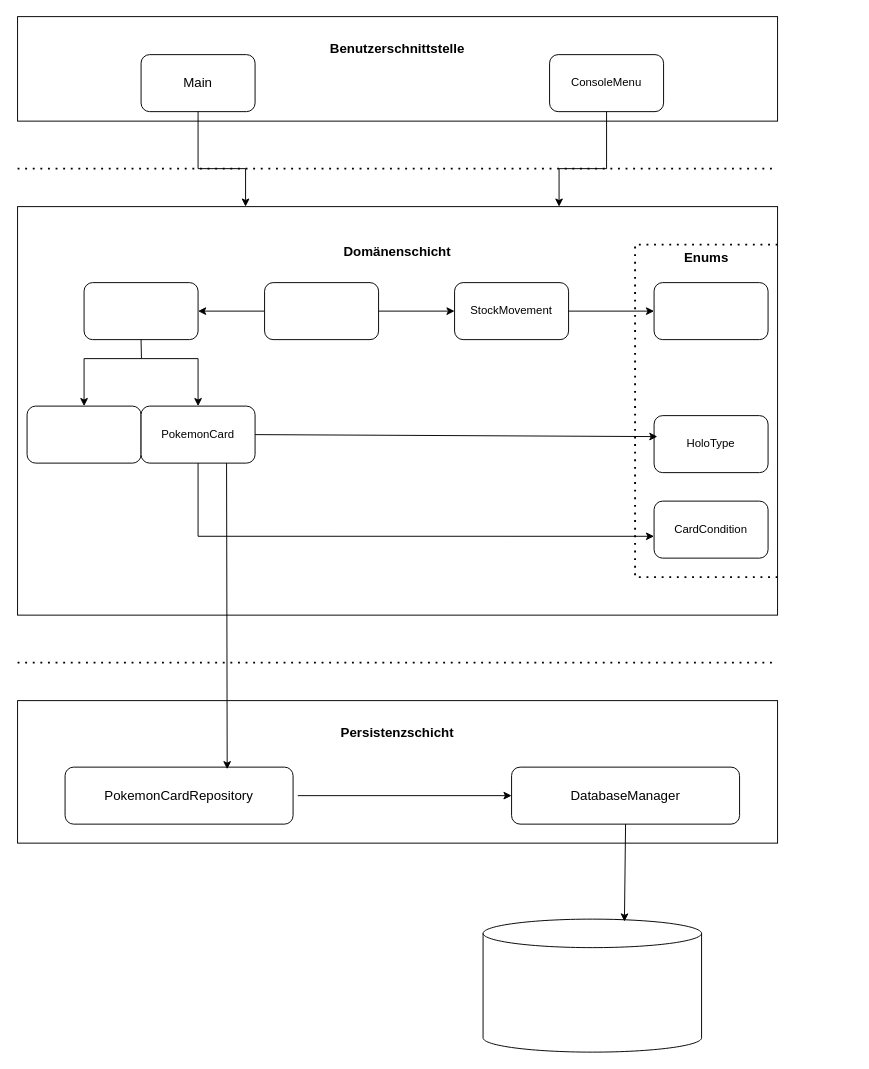
Some shapes in this 869 by 1069 pixel diagram are drawn without their labels. Each missing label, with the box of its shape:
Article: (26, 405, 141, 463)
BaseArticle: (83, 282, 198, 340)
Inventory: (264, 282, 379, 340)
MovementType: (653, 282, 768, 340)
SQLite-Datenbank: (482, 918, 702, 1052)
